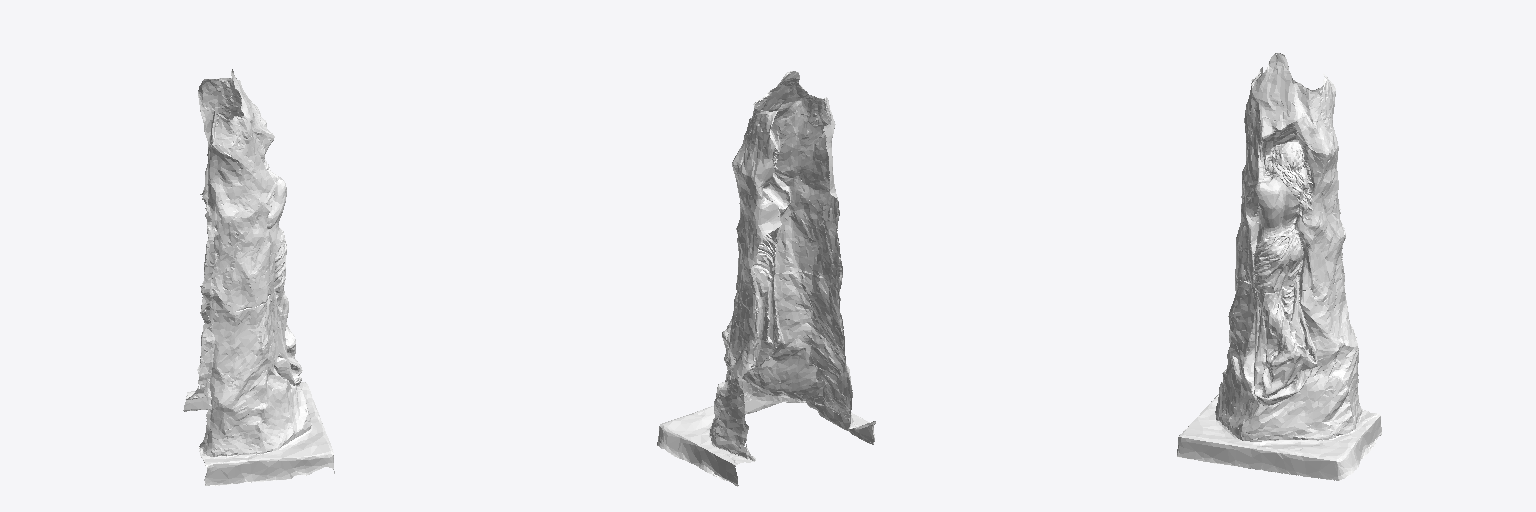
File: woman.obj
The picture shows the model from 3 angles: view 1: azimuth 30°, elevation 25°; view 2: azimuth 150°, elevation 25°; view 3: azimuth 270°, elevation 25°; orthographic projection.
Parts seen in each view (by area): view 1: womanrock; view 2: womanrock; view 3: womanrock.
Part boxes in pixels (left/top/right/bottom): womanrock: left=183, top=69, right=334, bottom=485; womanrock: left=657, top=71, right=875, bottom=486; womanrock: left=1177, top=53, right=1382, bottom=480.
Size of the model in its own units: 1.9 by 4.32 by 2.11.